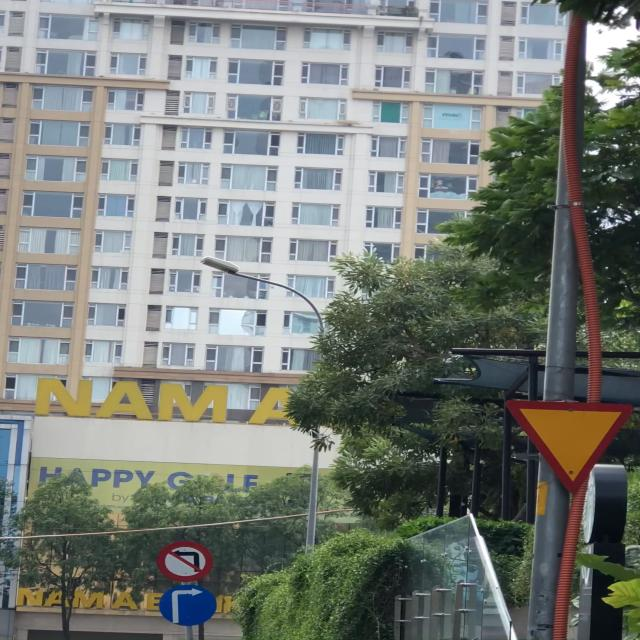Bien bao cam re trai: (154, 540, 218, 583)
Bien bao giao nhau voi duong uu tien: (502, 394, 634, 498)
Bien bao huong di phai theo: (158, 583, 226, 631)
